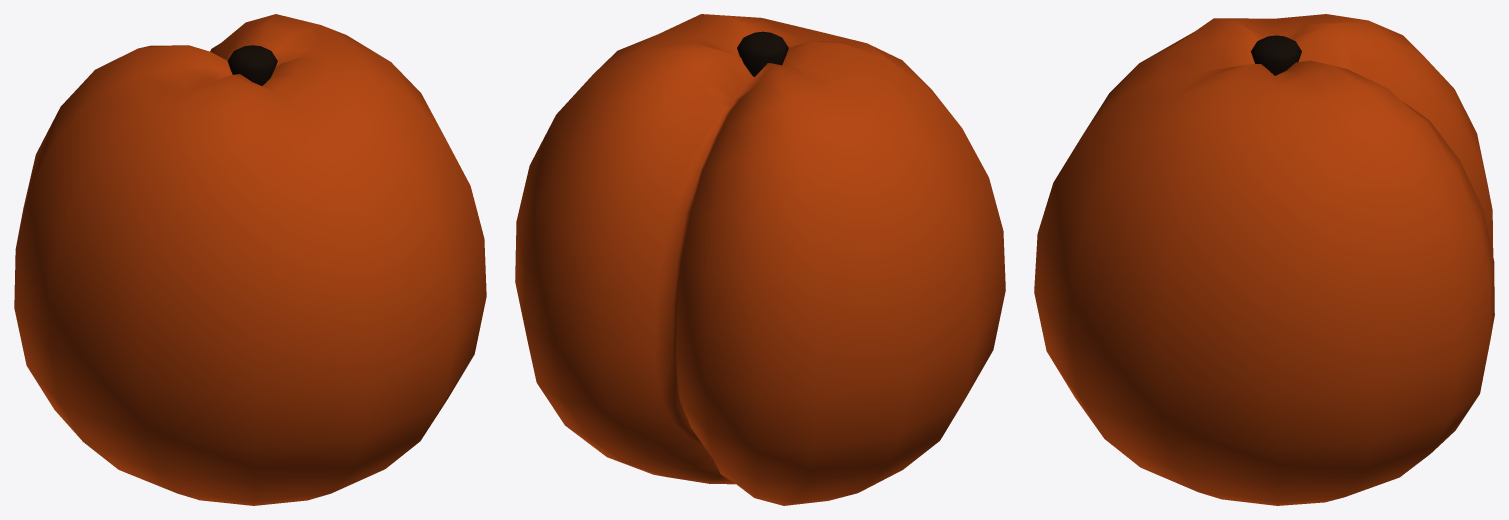
File: Peach.FBX
3 views of the same model, side by side, from view 1: azimuth 30°, elevation 25°; view 2: azimuth 150°, elevation 25°; view 3: azimuth 270°, elevation 25° (orthographic). The views are drawn at different scales.
Parts seen in each view (by area): view 1: Peach; view 2: Peach; view 3: Peach.
Boxes of the visible parts, x1,y1,x2,y2 form: Peach: (14,14,486,505); Peach: (515,14,1005,505); Peach: (1034,14,1494,505).
Size of the model in its own units: 1033 by 987 by 1026.
